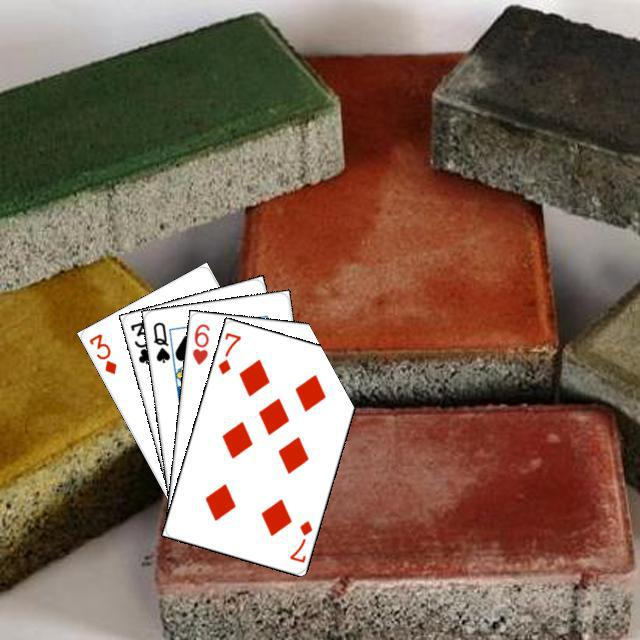3c: (125, 317, 155, 366)
3d: (84, 329, 118, 376)
6h: (187, 319, 211, 366)
7d: (213, 328, 243, 376), (284, 516, 314, 564)
Qs: (148, 317, 171, 364)
